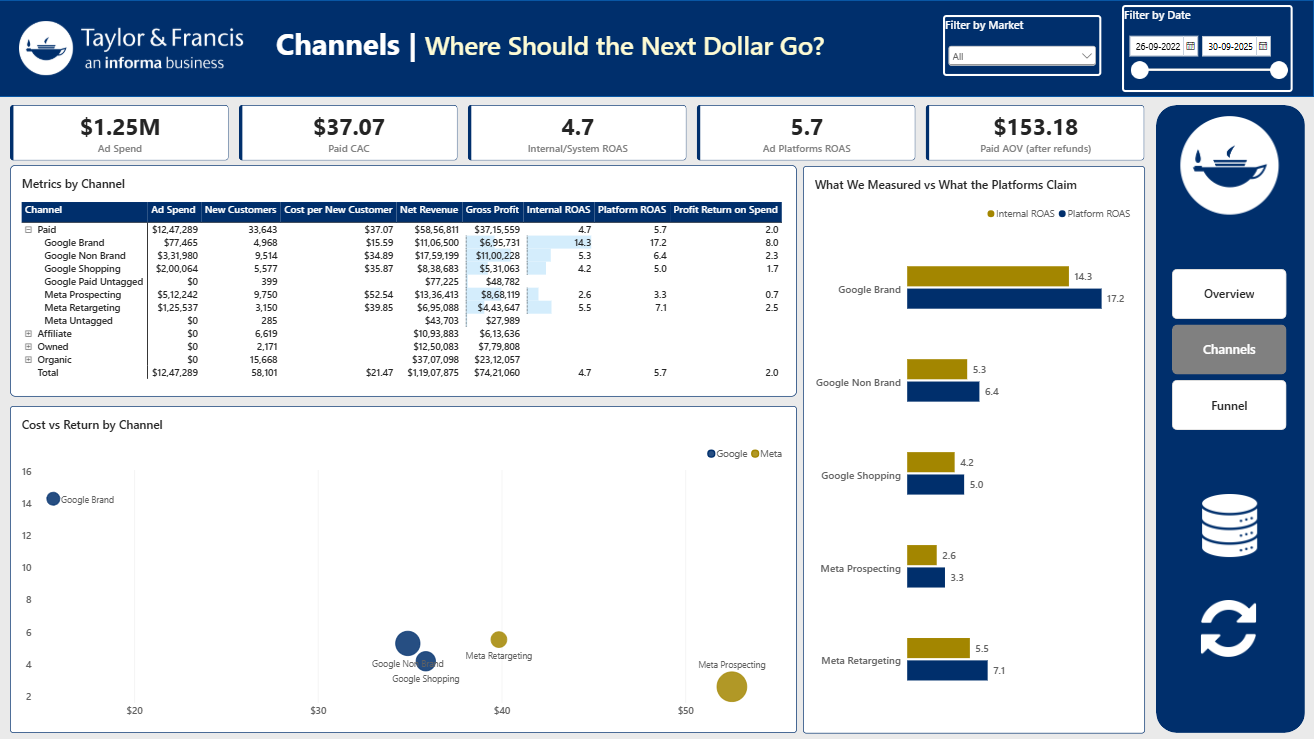

What the dashboard file says about the page in this screenshot:
{"tool":"powerbi","page":{"name":"Channels","canvas":[1920,1080],"ordinal":1},"visuals":[{"type":"shape","box":[0,0,1920,141.5],"z":0},{"type":"image","box":[30.6,11.7,327.4,117.4],"z":1000},{"type":"textbox","box":[405.6,33.6,811.8,73],"z":2000},{"type":"shape","box":[1689.1,153.4,217.5,916.1],"z":3000},{"type":"image","box":[1707,169.8,181.7,143.8],"z":4000},{"type":"cardVisual","fields":{"Data":["_Measures.Ad Spend","_Measures.Paid CAC","_Measures.Internal ROAS","_Measures.Platform ROAS","_Measures.Paid AOV (after refunds)"]},"box":[17.9,153.4,1656.4,81.9],"z":5000},{"type":"slicer","title":"Filter by Date","fields":{"Values":["Date.Date"]},"box":[1640,7.4,248.8,126.6],"z":6000},{"type":"slicer","title":"Filter by Market","fields":{"Values":["Market.market_name"]},"box":[1379.3,22.3,230.9,89],"z":7000},{"type":"pivotTable","title":"Metrics by Channel","fields":{"Rows":["Channel.group_label","Channel.channel_label"],"Values":["_Measures.Ad Spend","_Measures.New Customers","_Measures.Cost per New Customer","_Measures.Net Revenue","_Measures.Gross Profit","_Measures.Internal ROAS","_Measures.Platform ROAS","_Measures.Profit Return on Spend"]},"box":[17.5,240.7,1148.2,338.5],"z":8000},{"type":"clusteredBarChart","title":"What We Measured vs What the Platforms Claim","fields":{"Y":["_Measures.Internal ROAS","_Measures.Platform ROAS"],"Category":["Channel.channel_label"]},"box":[1174.8,241.9,499.4,828],"z":9000},{"type":"scatterChart","title":"Cost vs Return by Channel","fields":{"X":["_Measures.Cost per New Customer"],"Y":["_Measures.Internal ROAS"],"Size":["_Measures.Ad Spend"],"Series":["Channel.family"],"Category":["Channel.channel_label"]},"box":[17.5,592.3,1148.2,477.1],"z":10000},{"type":"pageNavigator","box":[1712.8,392.5,167.8,236.4],"z":11000},{"type":"image","box":[1731.8,875.4,126.9,83.2],"z":12000},{"type":"image","box":[1744.9,720.7,103.6,91.9],"z":13000}]}

Visuals, with their boxes in screenshot pixels (x1, y1, x2, y2), scaled from the page's 1920x1080 canvas onto the 1314x739 screenshot:
shape: <bbox>0, 0, 1313, 97</bbox>
image: <bbox>21, 8, 245, 88</bbox>
textbox: <bbox>278, 23, 833, 73</bbox>
shape: <bbox>1156, 105, 1305, 732</bbox>
image: <bbox>1168, 116, 1293, 215</bbox>
cardVisual - _Measures.Ad Spend x _Measures.Paid CAC: <bbox>12, 105, 1146, 161</bbox>
"Filter by Date" slicer: <bbox>1122, 5, 1293, 92</bbox>
"Filter by Market" slicer: <bbox>944, 15, 1102, 76</bbox>
"Metrics by Channel" pivotTable: <bbox>12, 165, 798, 396</bbox>
"What We Measured vs What the Platforms Claim" clusteredBarChart: <bbox>804, 166, 1146, 732</bbox>
"Cost vs Return by Channel" scatterChart: <bbox>12, 405, 798, 732</bbox>
pageNavigator: <bbox>1172, 269, 1287, 430</bbox>
image: <bbox>1185, 599, 1272, 656</bbox>
image: <bbox>1194, 493, 1265, 556</bbox>
